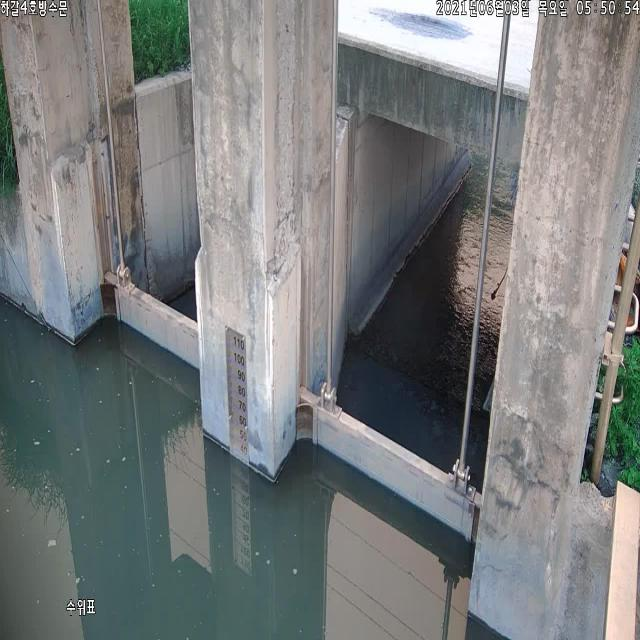ruler: (224, 322, 252, 467)
value: (232, 333, 245, 352), (232, 351, 245, 369), (237, 398, 248, 413), (237, 413, 248, 428), (236, 368, 247, 382), (238, 384, 248, 398), (238, 428, 248, 442), (239, 443, 248, 458)
